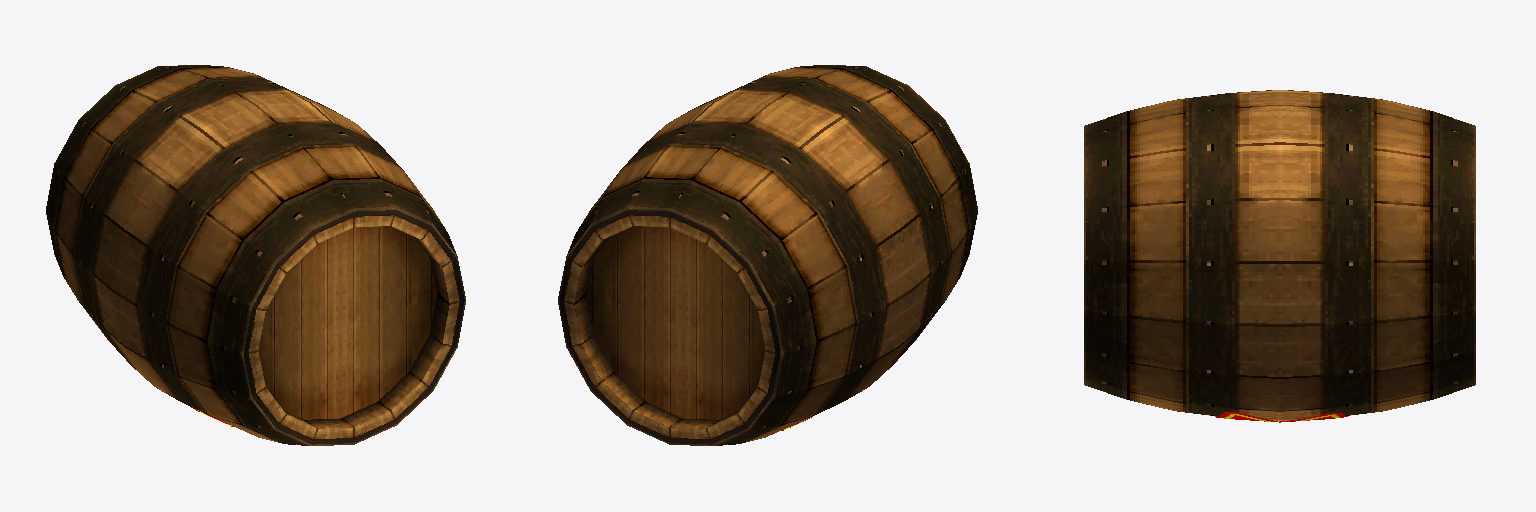
The picture shows the model from 3 angles: view 1: azimuth 30°, elevation 25°; view 2: azimuth 150°, elevation 25°; view 3: azimuth 270°, elevation 25°; orthographic projection.
Size of the model in its own units: 2.38 by 2.39 by 2.81.
2 materials, 2 textured.